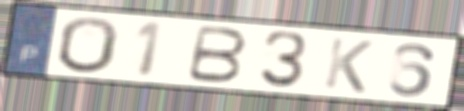1: (131, 19, 165, 79)
3: (258, 30, 311, 91)
6: (387, 42, 436, 99)
B: (183, 23, 251, 85)
K: (320, 34, 376, 95)
O: (56, 15, 122, 75)
